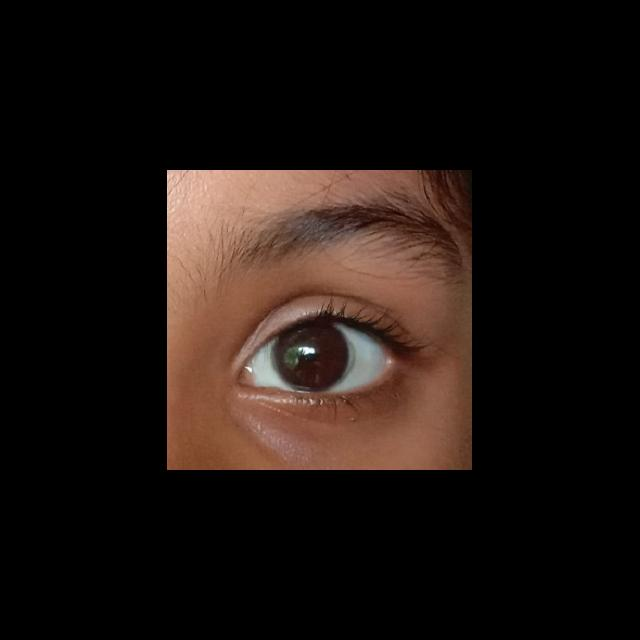eye: (249, 320, 389, 395)
iris: (272, 323, 350, 390)
